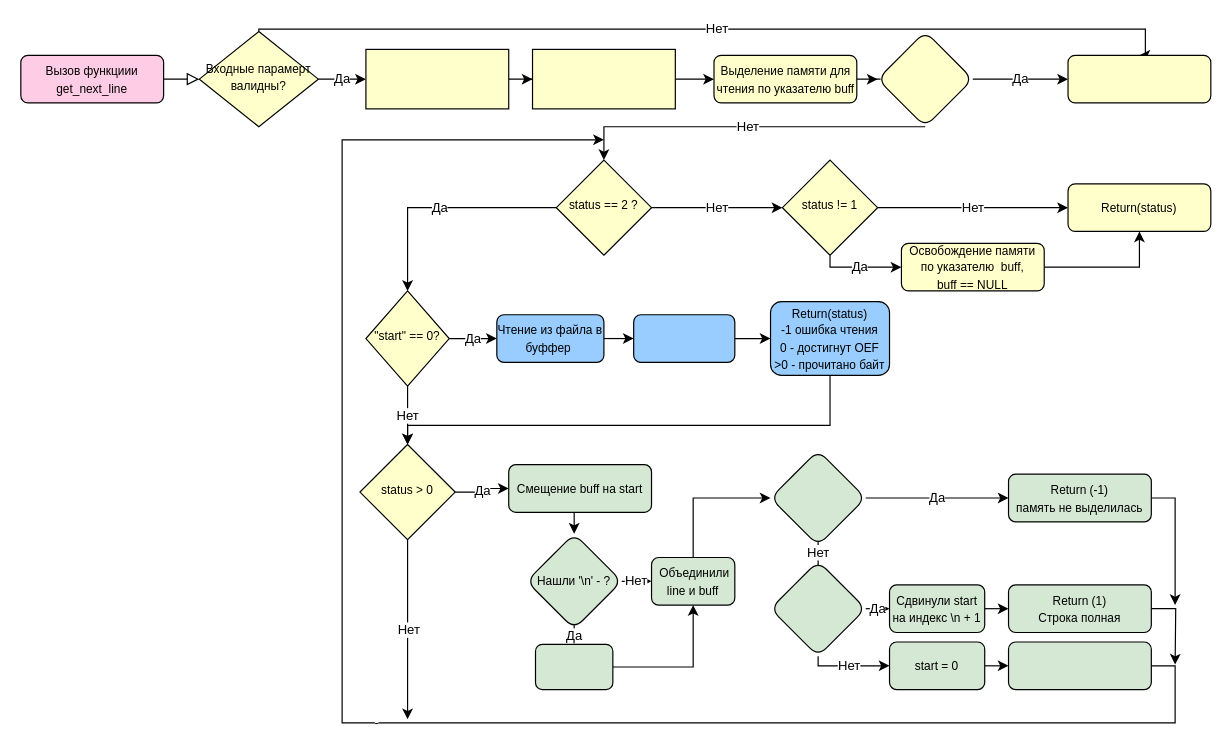
Some shapes in this 1232 by 753 pixel diagram are drawn without their labels. The centre of each missing label's shape, as x and y in pixels:
buff == NULL: point (924, 78)
line == NULL?: point (817, 497)
Return (2) Строка неполная: point (1079, 665)
Return(-1): point (1139, 78)
Выделение памяти под '\0' и присвоедние к указателю line: point (437, 78)
Заменили '\n' на '\0': point (573, 666)
Запись buff[status] = '\0': point (683, 338)
Инициализация переменной "status" значением 2: point (603, 78)
Нашли '\n' и после '\n' нет '\0': point (817, 608)
